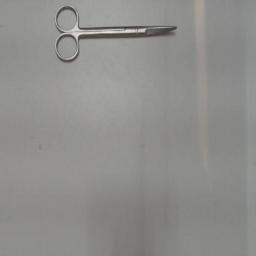Curved Mayo Scissors: (52, 4, 180, 66)
